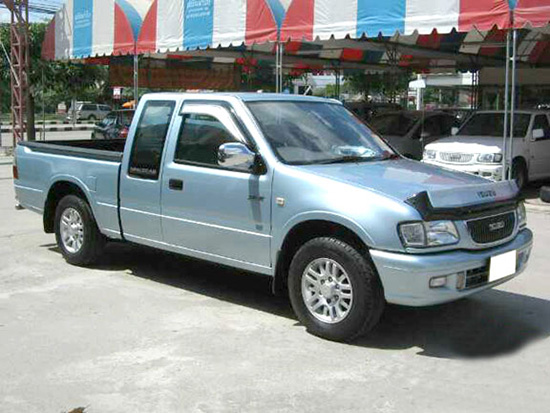pickup: (9, 88, 536, 342)
